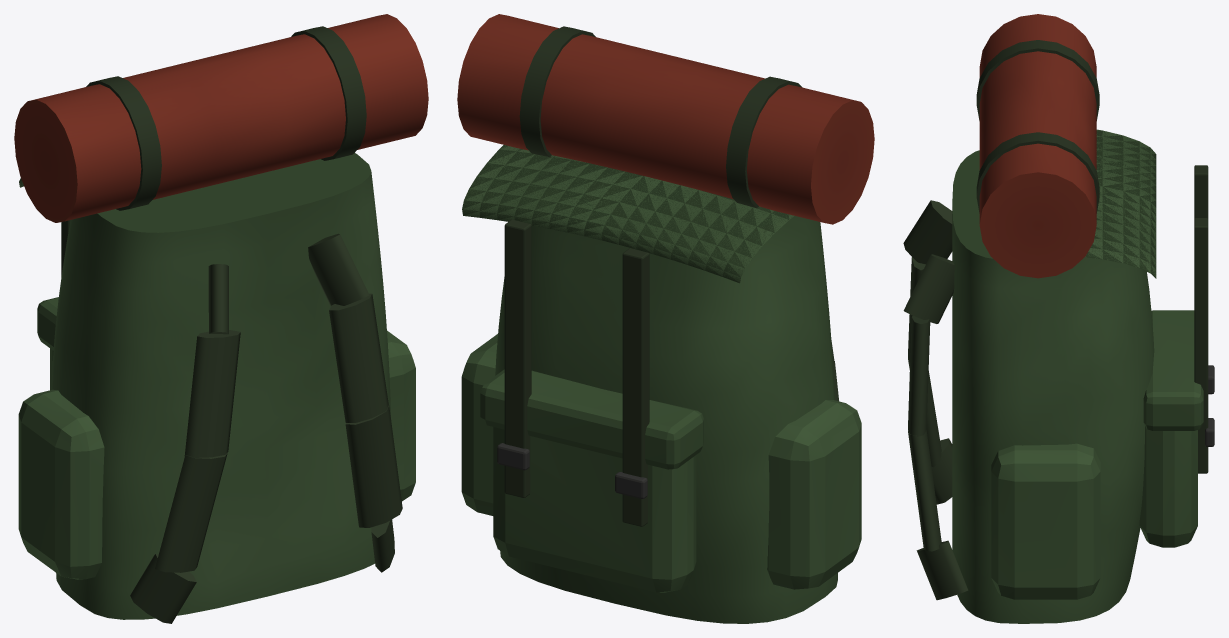
File: backpack.glb
3 renders of one model, left to right at view 1: azimuth 30°, elevation 25°; view 2: azimuth 150°, elevation 25°; view 3: azimuth 270°, elevation 25°, orthographic. The views are drawn at different scales.
Visible parts, largest first — view 1: backpack; view 2: backpack; view 3: backpack.
Part boxes in pixels (x1,y1,x2,y2): backpack: (14, 14, 428, 623); backpack: (457, 14, 874, 623); backpack: (903, 14, 1214, 623).
Size of the model in its own units: 0.49 by 0.659 by 0.3986.
